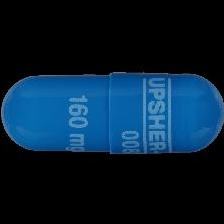0245-0087: (0, 0, 224, 224)
